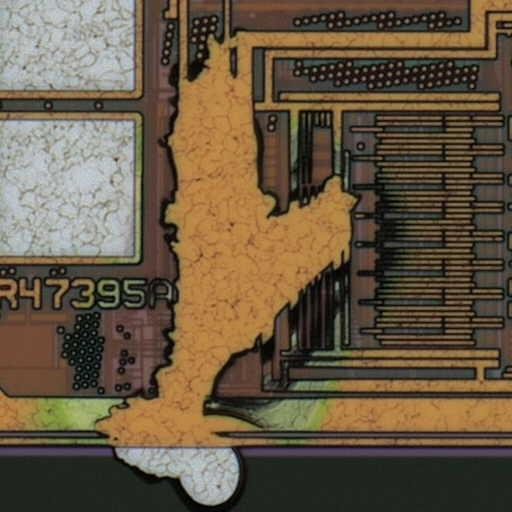BLOCK ETCH: (79, 18, 416, 512)
